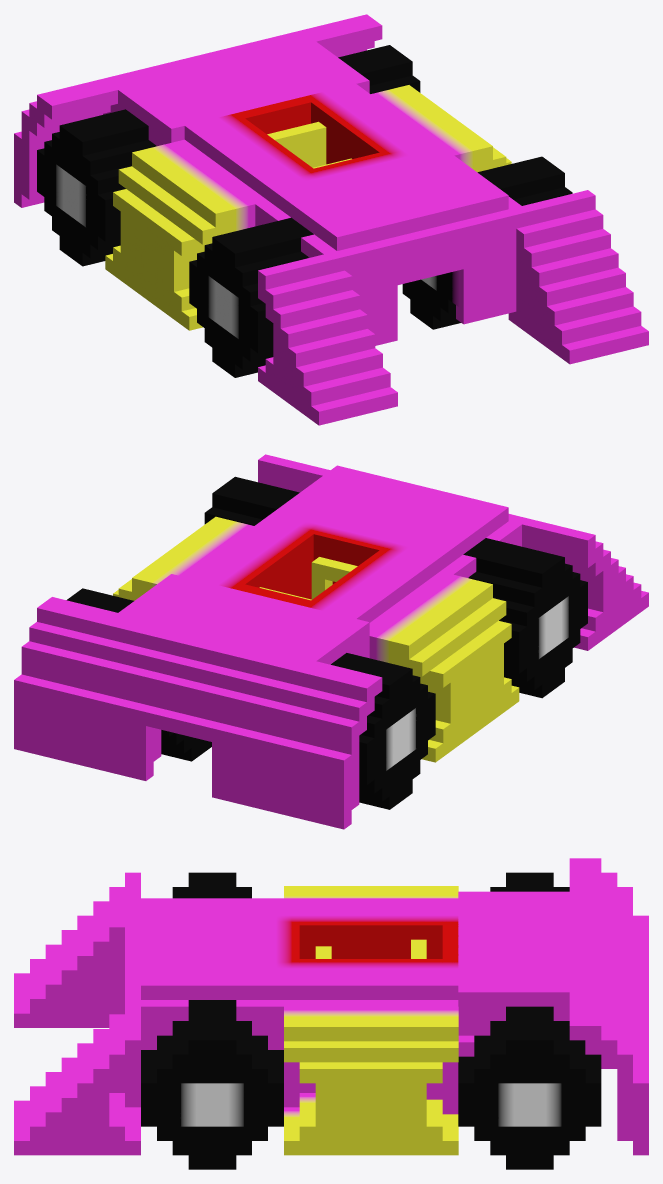
File: Car_19.fbx
3 views of the same model, one above another, from view 1: azimuth 30°, elevation 25°; view 2: azimuth 150°, elevation 25°; view 3: azimuth 270°, elevation 25° (orthographic). The views are drawn at different scales.
Parts seen in each view (by area): view 1: Car_19; view 2: Car_19; view 3: Car_19.
Boxes of the visible parts, x1,y1,x2,y2 form: Car_19: [14, 14, 648, 425]; Car_19: [14, 454, 648, 829]; Car_19: [14, 858, 648, 1169].
Bounding box in the file's own units: 25 × 10 × 40.
Materials: 1 (1 with a texture image).
